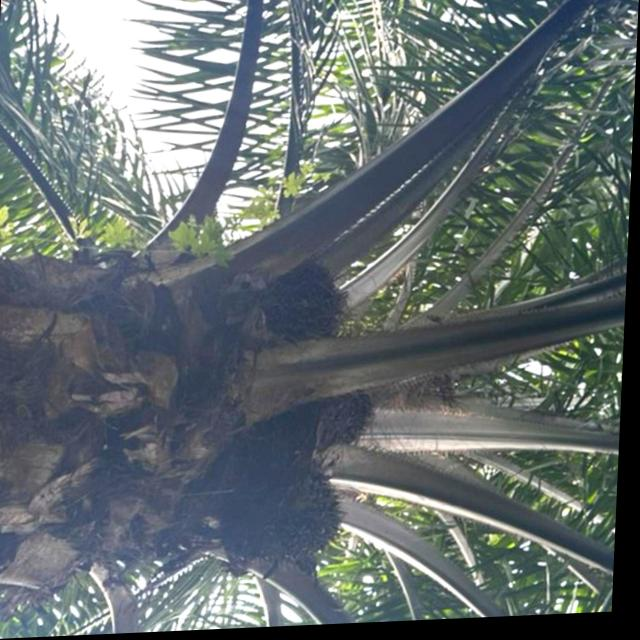almost: (271, 255, 354, 345)
